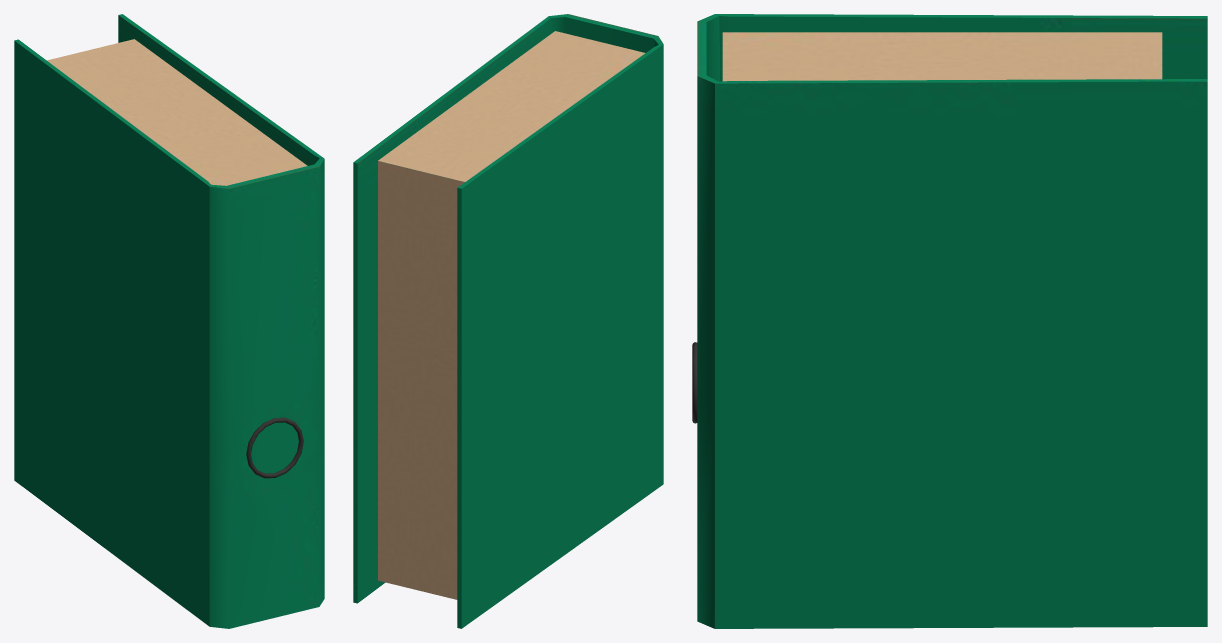
3 views of the same model, side by side, from view 1: azimuth 30°, elevation 25°; view 2: azimuth 150°, elevation 25°; view 3: azimuth 270°, elevation 25° (orthographic). The views are drawn at different scales.
Parts seen in each view (by area): view 1: file; view 2: file; view 3: file.
Boxes of the visible parts, x1,y1,x2,y2 form: file: (14, 14, 324, 628); file: (353, 14, 663, 628); file: (692, 14, 1207, 628).
Size of the model in its own units: 5.65 by 20.63 by 17.66.
1 material, 1 textured.
